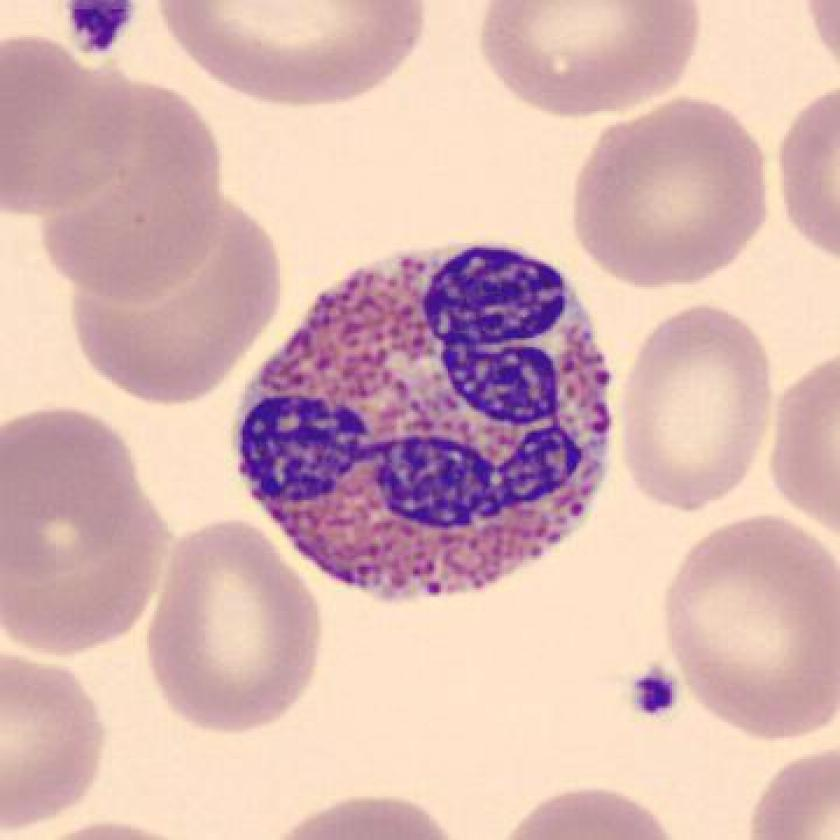eosinophil: (227, 230, 624, 612)
